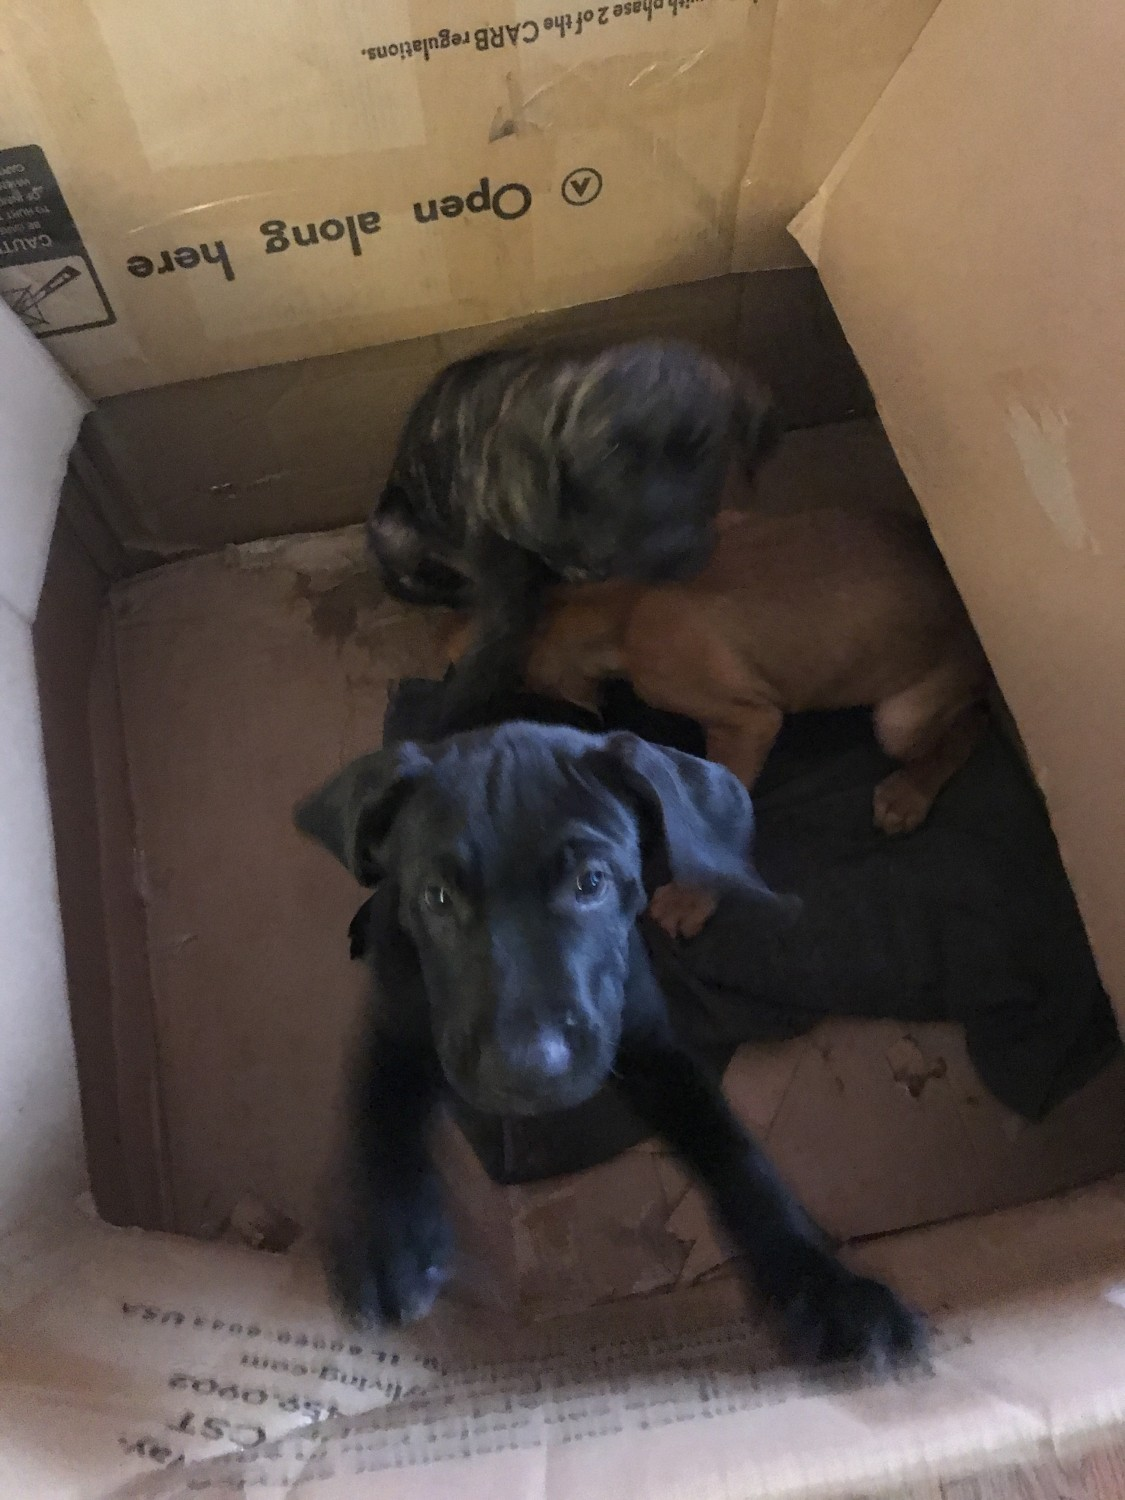am_pit_bull_terrier: (281, 720, 944, 1381), (437, 507, 997, 943), (359, 331, 780, 617)
